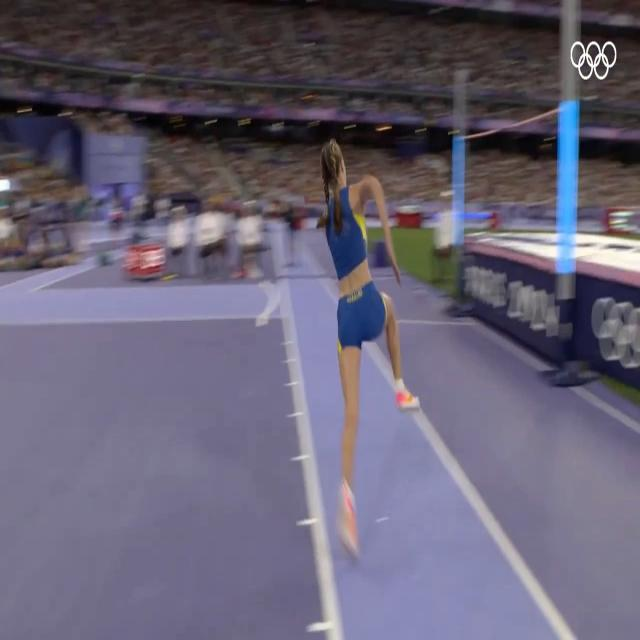run: (313, 138, 421, 558)
